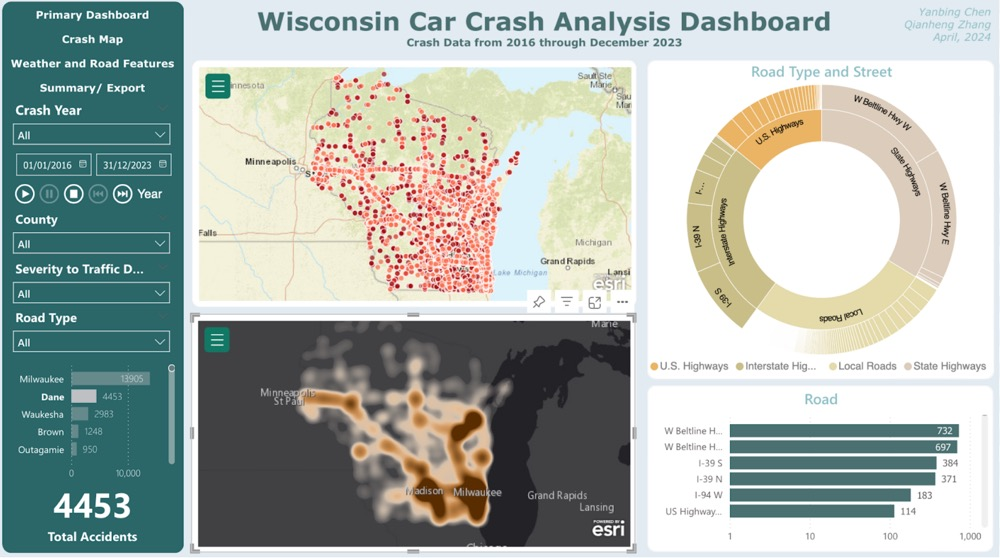

This screenshot's page, from the dashboard's own definition file:
{"tool":"powerbi","page":{"name":"Primary Dashboard","canvas":[1280,720],"ordinal":1},"visuals":[{"type":"radarChart","title":"Accidents by Time Range","fields":{"category":["Traffic Accident in Wisconsin.Time Classification"],"measure":["Traffic Accident in Wisconsin.Total Accidents"]},"box":[846.2,79.5,424.3,366.8],"z":0},{"type":"donutChart","title":"Day of the Week","fields":{"Category":["Traffic Accident in Wisconsin.Day of the Week"],"Y":["CountNonNull(Traffic Accident in Wisconsin.ID)"]},"box":[843.2,457,427.1,250.6],"z":1000},{"type":"columnChart","fields":{"Category":["Calendar.Month"],"Y":["Traffic Accident in Wisconsin.Total Accidents"]},"box":[246.5,510.5,581,196.4],"z":2000},{"type":"textbox","box":[277.6,4.9,840.1,74.6],"z":3000},{"type":"esriVisual","fields":{"Latitude":["Traffic Accident in Wisconsin.Lat"],"Longitude":["Traffic Accident in Wisconsin.Lng"],"Color":["Traffic Accident in Wisconsin.Severity"],"Location":["Traffic Accident in Wisconsin.County"]},"box":[246.5,79.9,581,419.8],"z":4000},{"type":"textbox","box":[1037.4,5,234.1,63.5],"z":5000},{"type":"shape","box":[6.3,4.7,231.7,702.9],"z":6000},{"type":"PBI_CV_16948668_E17D_454B_8664_2F2C470EA8C1","fields":{"category":["Calendar.Year"]},"box":[18,227.7,204.2,44],"z":7000},{"type":"slicer","fields":{"Values":["Calendar.Date"]},"box":[13.4,195,223,42.7],"z":8000},{"type":"slicer","fields":{"Values":["Traffic Accident in Wisconsin.Road Type"]},"box":[9.8,391.5,220.1,63.6],"z":9000},{"type":"card","fields":{"Values":["Traffic Accident in Wisconsin.Total Accidents"]},"box":[17.1,606.5,209.1,96.6],"z":10000},{"type":"slicer","fields":{"Values":["Calendar.Year"]},"box":[10.7,125.8,220.3,64.1],"z":11000},{"type":"slicer","fields":{"Values":["Traffic Accident in Wisconsin.Severity"]},"box":[9.8,329.2,220.1,64.8],"z":12000},{"type":"barChart","fields":{"Category":["Traffic Accident in Wisconsin.County"],"Y":["CountNonNull(Traffic Accident in Wisconsin.ID)"]},"box":[11,454.9,220.1,168.8],"z":13000},{"type":"pageNavigator","box":[13.5,11,215.2,114.9],"z":14000},{"type":"slicer","fields":{"Values":["Traffic Accident in Wisconsin.County"]},"box":[9.8,265.6,220.1,64.8],"z":15000}]}

Visuals, with their boxes in screenshot pixels (x1, y1, x2, y2), scaled from the page's 1280x720 canvas onto the 1000x558 screenshot:
"Accidents by Time Range" radarChart: detection(661, 62, 993, 346)
"Day of the Week" donutChart: detection(659, 354, 992, 548)
columnChart - Calendar.Month x Traffic Accident in Wisconsin.Total Accidents: detection(193, 396, 646, 548)
textbox: detection(217, 4, 873, 62)
esriVisual - Traffic Accident in Wisconsin.Lat x Traffic Accident in Wisconsin.Lng: detection(193, 62, 646, 387)
textbox: detection(810, 4, 993, 53)
shape: detection(5, 4, 186, 548)
PBI_CV_16948668_E17D_454B_8664_2F2C470EA8C1 - Calendar.Year: detection(14, 176, 174, 211)
slicer - Calendar.Date: detection(10, 151, 185, 184)
slicer - Traffic Accident in Wisconsin.Road Type: detection(8, 303, 180, 353)
card - Traffic Accident in Wisconsin.Total Accidents: detection(13, 470, 177, 545)
slicer - Calendar.Year: detection(8, 97, 180, 147)
slicer - Traffic Accident in Wisconsin.Severity: detection(8, 255, 180, 305)
barChart - Traffic Accident in Wisconsin.County x CountNonNull(Traffic Accident in Wisconsin.ID): detection(9, 353, 181, 483)
pageNavigator: detection(11, 9, 179, 98)
slicer - Traffic Accident in Wisconsin.County: detection(8, 206, 180, 256)
